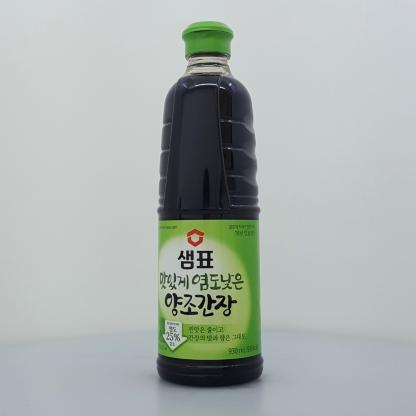-------------: (156, 21, 263, 387)
